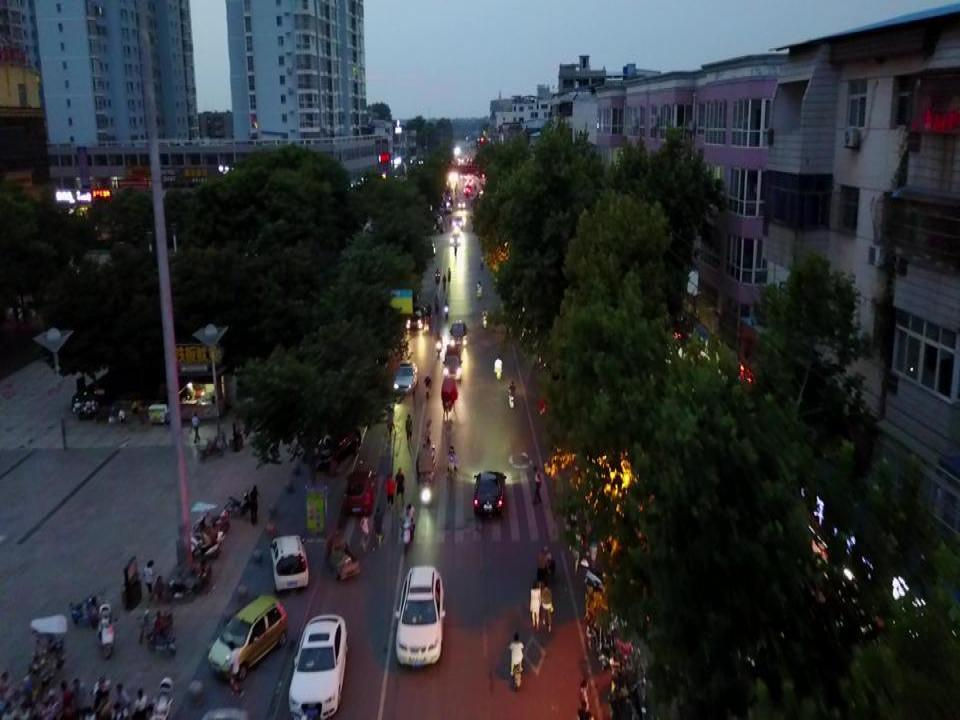car: (208, 593, 291, 684), (286, 613, 347, 720), (394, 563, 445, 668), (268, 532, 310, 591), (311, 426, 363, 470), (343, 468, 378, 516), (473, 470, 508, 518), (391, 360, 418, 396), (441, 343, 462, 384), (449, 319, 468, 348), (404, 305, 424, 332)
